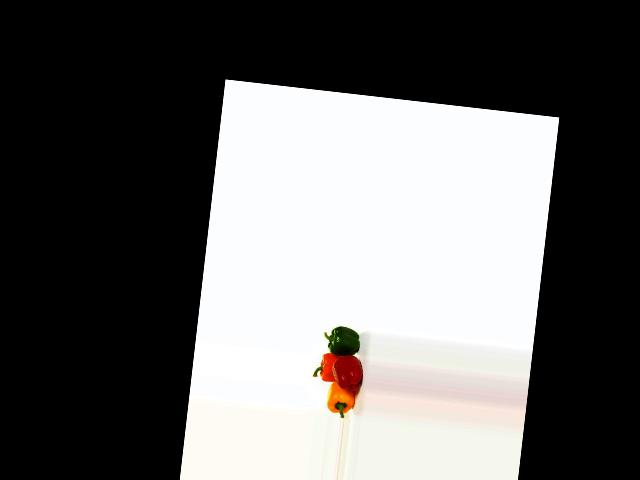bell_pepper: (324, 324, 366, 360)
